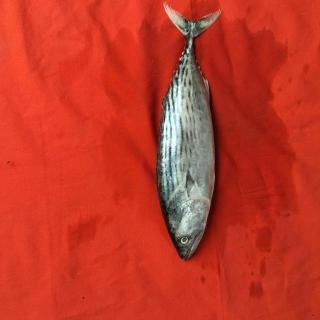Ikan: (153, 5, 229, 269)
